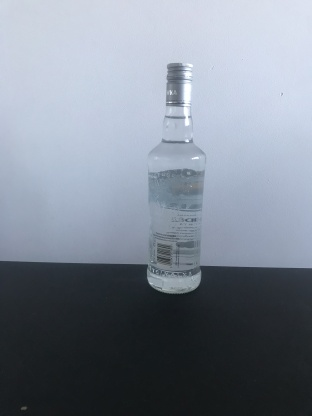nakretka: (164, 61, 194, 109)
